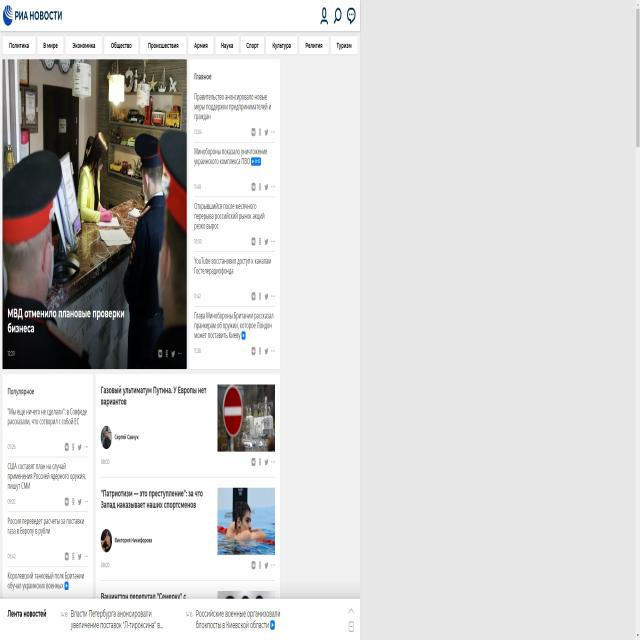menu-bar: (317, 4, 357, 26)
tab-bar: (1, 34, 359, 57)
